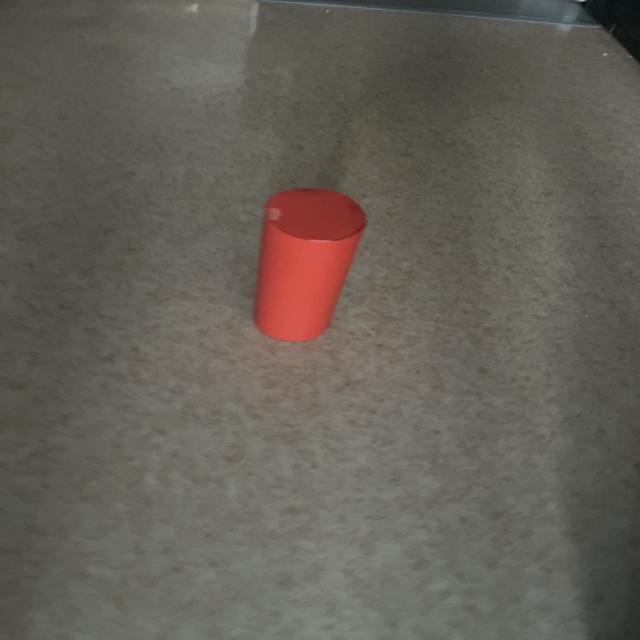przeszkoda: (254, 188, 366, 341)
